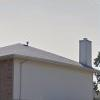Chimney: (72, 31, 100, 72)
